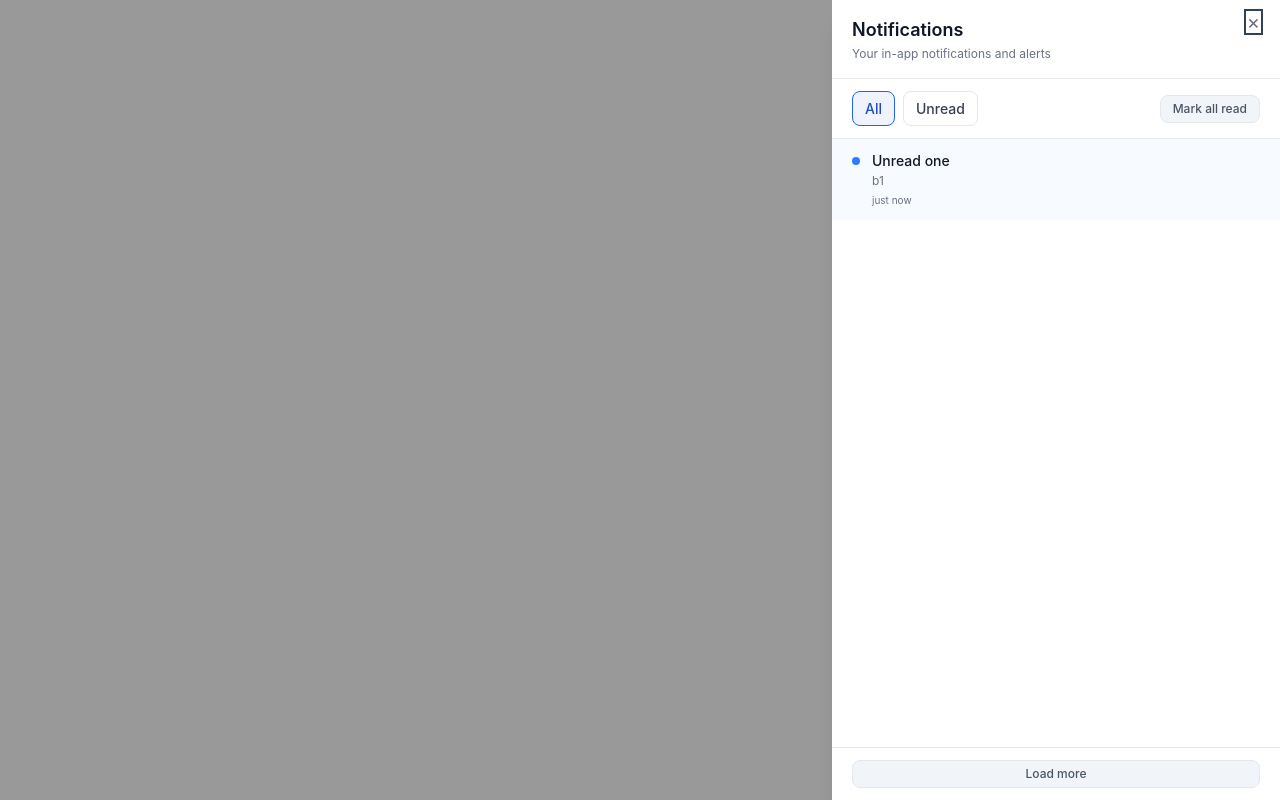
Test: NotificationDrawer.vue › appends the next page on Load more
Expected: the text "Read two" is not shown
Click the button "Load more": click(1056, 774) [852,760,1260,788]
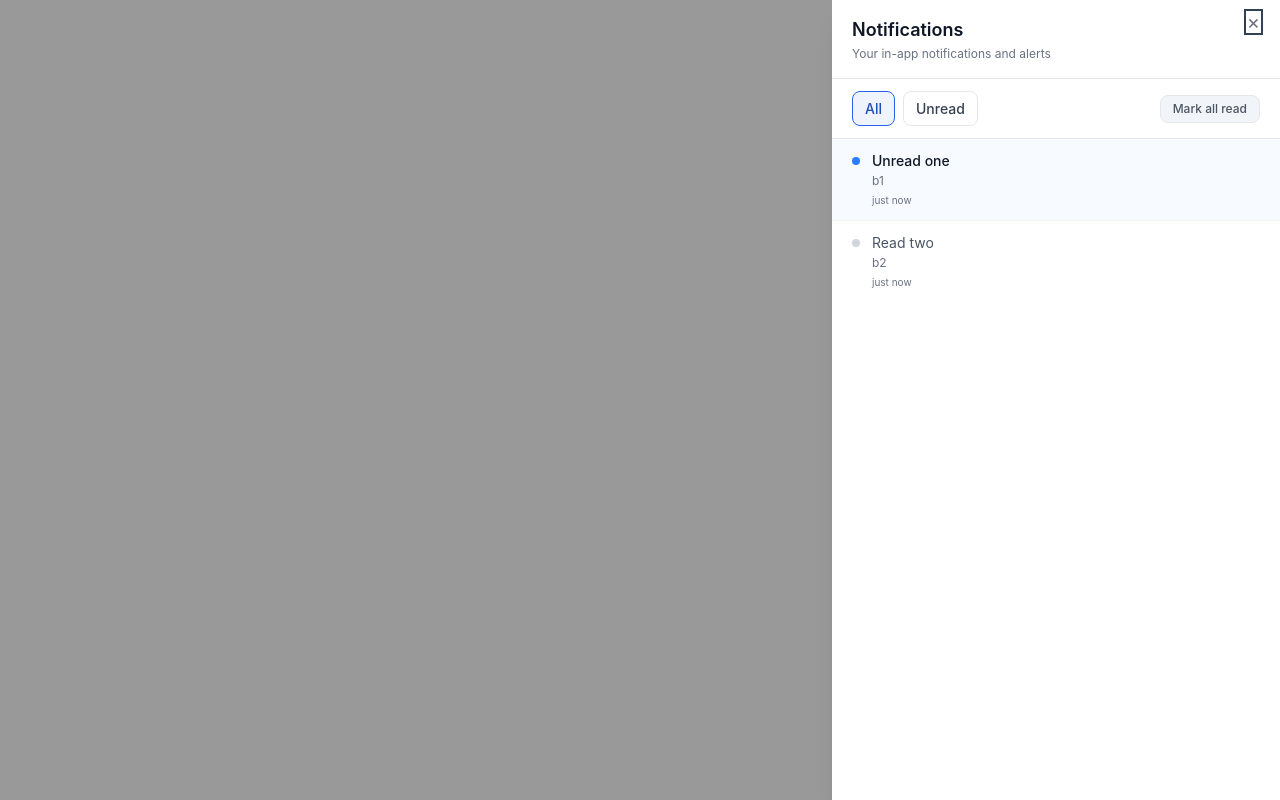
Expected: the text "Read two" is shown, [872,234,934,251]
